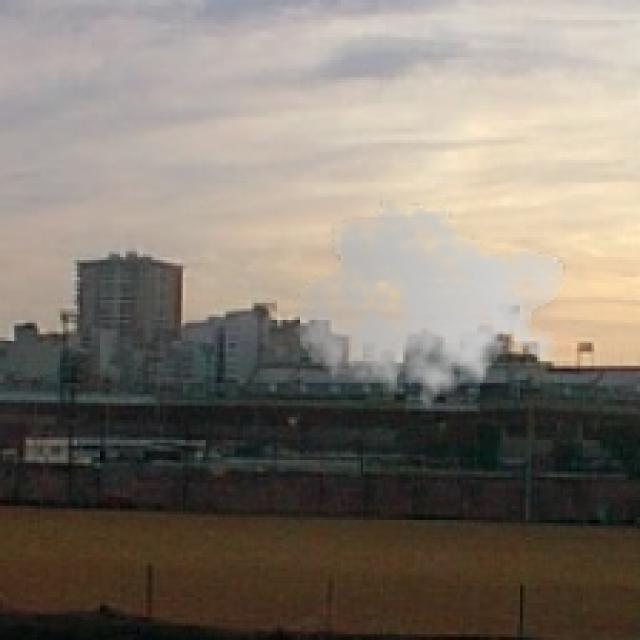smoke: (294, 191, 569, 420)
